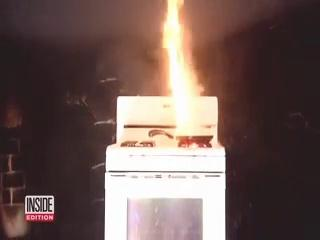Fire: (158, 1, 212, 134)
